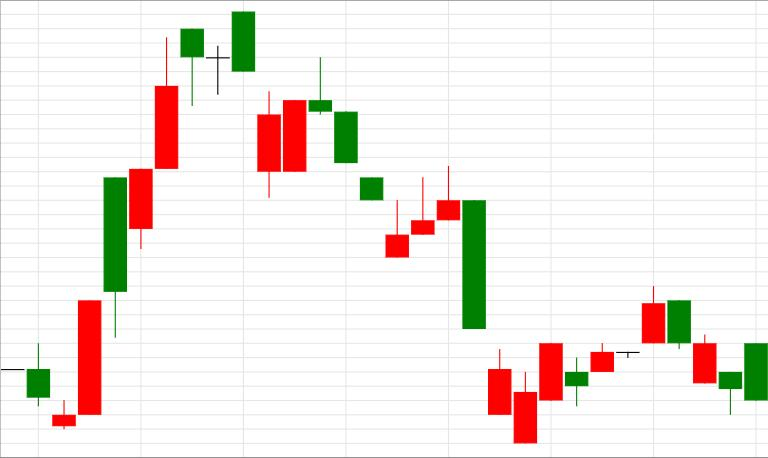hanging_man_fall: (52, 30, 203, 429)
